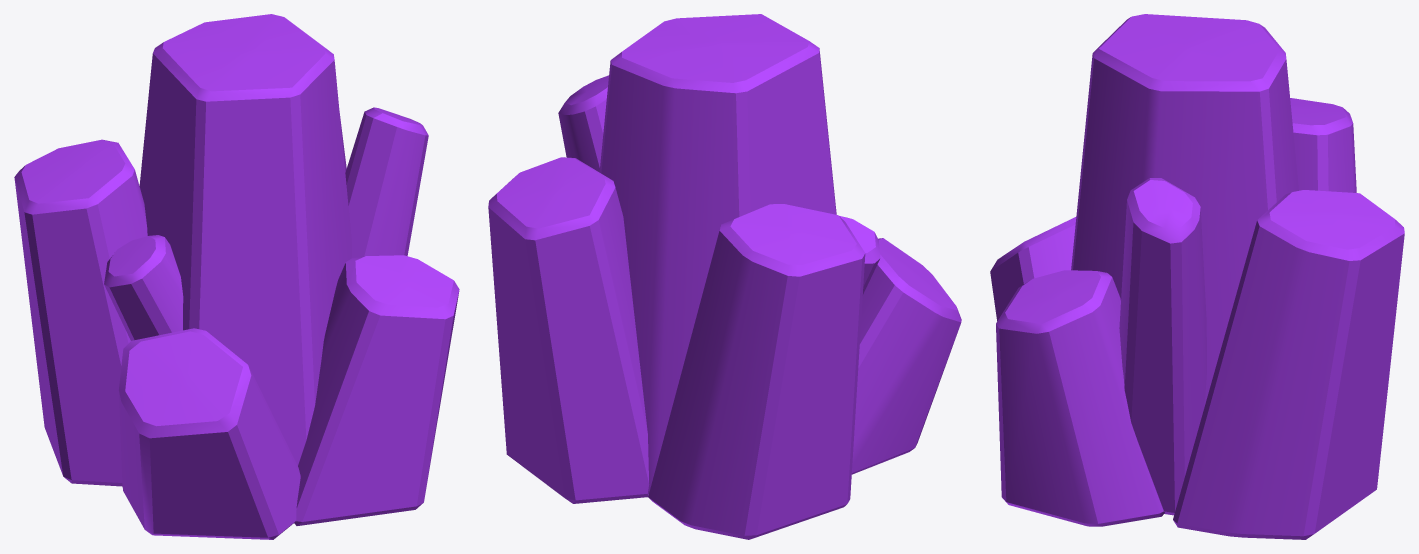
Rendered from crystal_cluster.glb.
The picture shows the model from 3 angles, left to right: view 1: azimuth 30°, elevation 25°; view 2: azimuth 150°, elevation 25°; view 3: azimuth 270°, elevation 25°; orthographic projection. The views are drawn at different scales.
Visible parts, largest first — view 1: Crystal_Big; view 2: Crystal_Big; view 3: Crystal_Big.
Part boxes in pixels (bbox=[...]): Crystal_Big: bbox=[14, 14, 459, 539]; Crystal_Big: bbox=[488, 14, 961, 539]; Crystal_Big: bbox=[990, 14, 1404, 539].
Size of the model in its own units: 0.8919 by 1 by 0.8956.
1 material, 1 textured.
